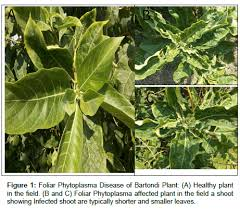Diseased_Leaves: (183, 90, 207, 129), (207, 150, 234, 168), (142, 71, 177, 83), (159, 27, 187, 41), (161, 47, 182, 58)
